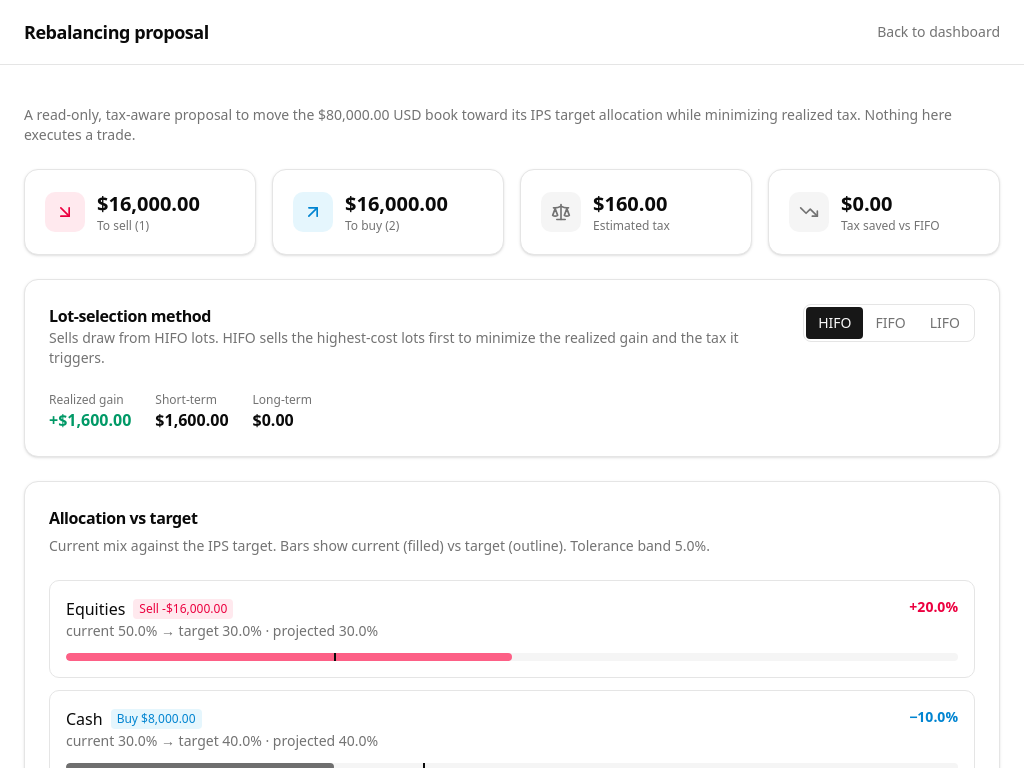
Test: RebalancePage › switches to FIFO and shows a larger long-term realized gain
expect the text with test id "realized-long" reads "$0.00": met, box [252, 409, 294, 431]
What coordinates should you click on to do the following:
click the button with test id "method-fifo"
I would click on:
 (891, 323)
Its box is [864, 307, 918, 339].
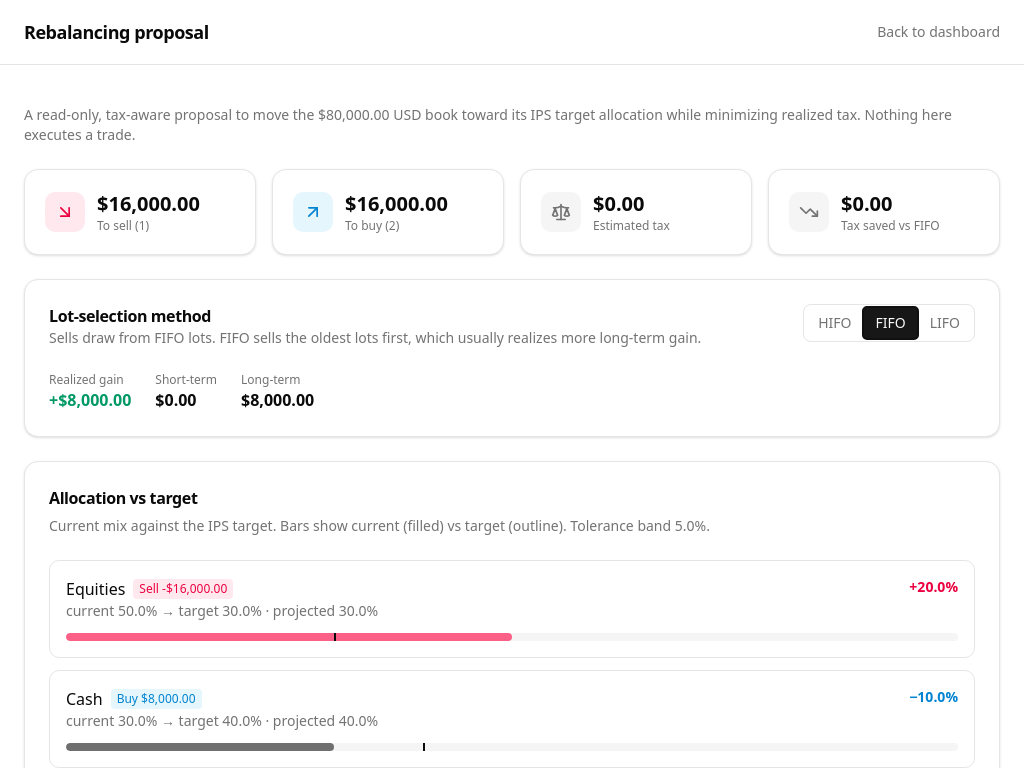
expect the text with test id "rebalance-method" reads "FIFO": met, box [154, 328, 184, 347]
expect the text with test id "realized-long" reads "$8,000.00": met, box [241, 389, 314, 411]
expect the text with test id "realized-short" reads "$0.00": met, box [155, 389, 196, 411]
